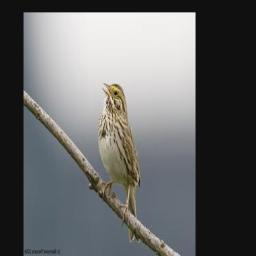Sparrow: (99, 79, 142, 245)
